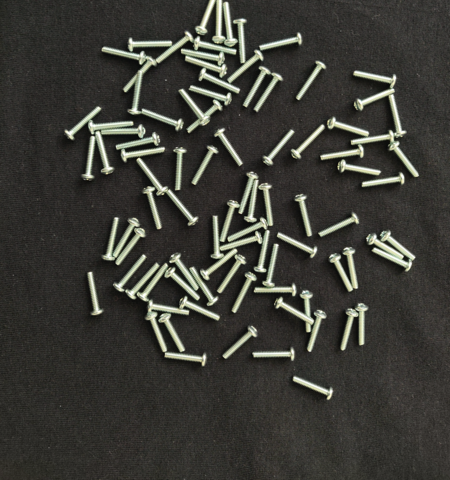longscrew: (117, 58, 158, 97), (153, 31, 195, 66), (64, 104, 104, 139), (188, 263, 218, 308), (134, 161, 170, 197), (276, 294, 314, 328), (263, 126, 296, 165), (220, 326, 259, 359), (193, 147, 223, 189), (165, 267, 200, 303), (117, 227, 146, 269), (115, 253, 144, 295), (253, 72, 285, 110), (239, 67, 271, 105), (293, 122, 325, 160), (172, 251, 199, 296), (180, 87, 208, 129), (316, 211, 358, 239), (215, 131, 247, 167), (218, 255, 246, 296), (202, 249, 239, 280), (189, 79, 233, 105), (113, 216, 140, 258), (391, 144, 423, 179), (277, 231, 317, 259), (141, 262, 169, 301), (296, 64, 328, 98), (190, 100, 221, 135), (130, 260, 158, 298), (184, 294, 222, 322), (166, 194, 199, 226), (201, 66, 240, 93), (374, 246, 412, 273), (95, 130, 118, 174), (326, 255, 354, 291), (381, 231, 418, 258), (369, 235, 406, 262), (229, 20, 252, 62), (205, 217, 228, 259), (207, 0, 229, 43), (221, 2, 243, 45), (220, 199, 242, 242), (241, 179, 263, 222), (293, 194, 315, 237), (253, 231, 275, 274), (263, 243, 285, 286), (293, 378, 334, 401), (235, 173, 257, 215), (257, 185, 279, 227), (388, 95, 409, 139), (233, 273, 255, 314), (327, 119, 376, 137), (353, 90, 402, 108), (251, 348, 300, 366), (160, 351, 209, 369), (125, 35, 174, 53), (182, 46, 231, 64), (309, 308, 327, 357), (301, 288, 319, 337), (84, 270, 102, 319), (103, 215, 121, 264), (182, 58, 230, 76), (193, 39, 241, 57), (149, 298, 189, 319), (145, 187, 162, 234), (342, 249, 361, 291), (140, 110, 184, 128), (259, 33, 307, 49), (351, 70, 399, 86), (361, 176, 409, 192), (147, 311, 167, 349), (162, 313, 182, 351), (338, 160, 385, 176), (251, 284, 300, 299), (195, 0, 217, 33), (348, 132, 396, 147), (318, 146, 365, 161), (89, 117, 133, 133), (100, 124, 144, 140), (118, 133, 162, 149), (171, 146, 185, 195), (122, 146, 166, 161), (101, 49, 145, 64), (342, 306, 355, 353), (358, 303, 371, 350), (130, 74, 143, 113), (85, 136, 94, 184)
